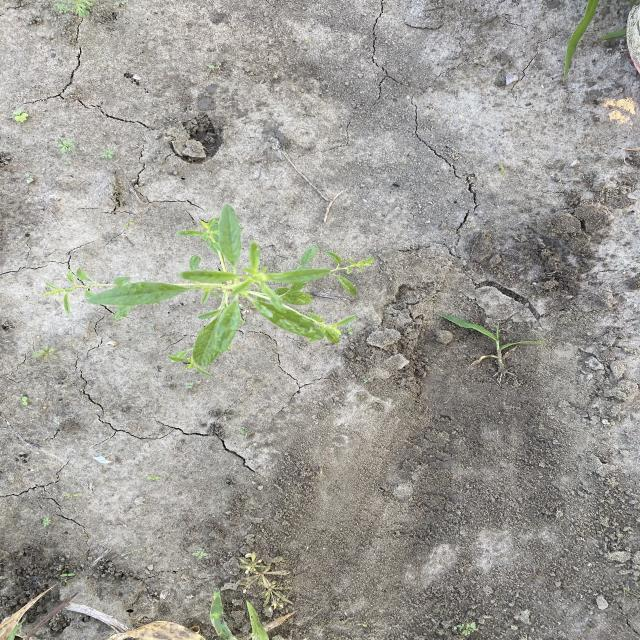Carpetweed: (230, 551, 298, 612)
Waterhemp: (38, 204, 376, 378)
